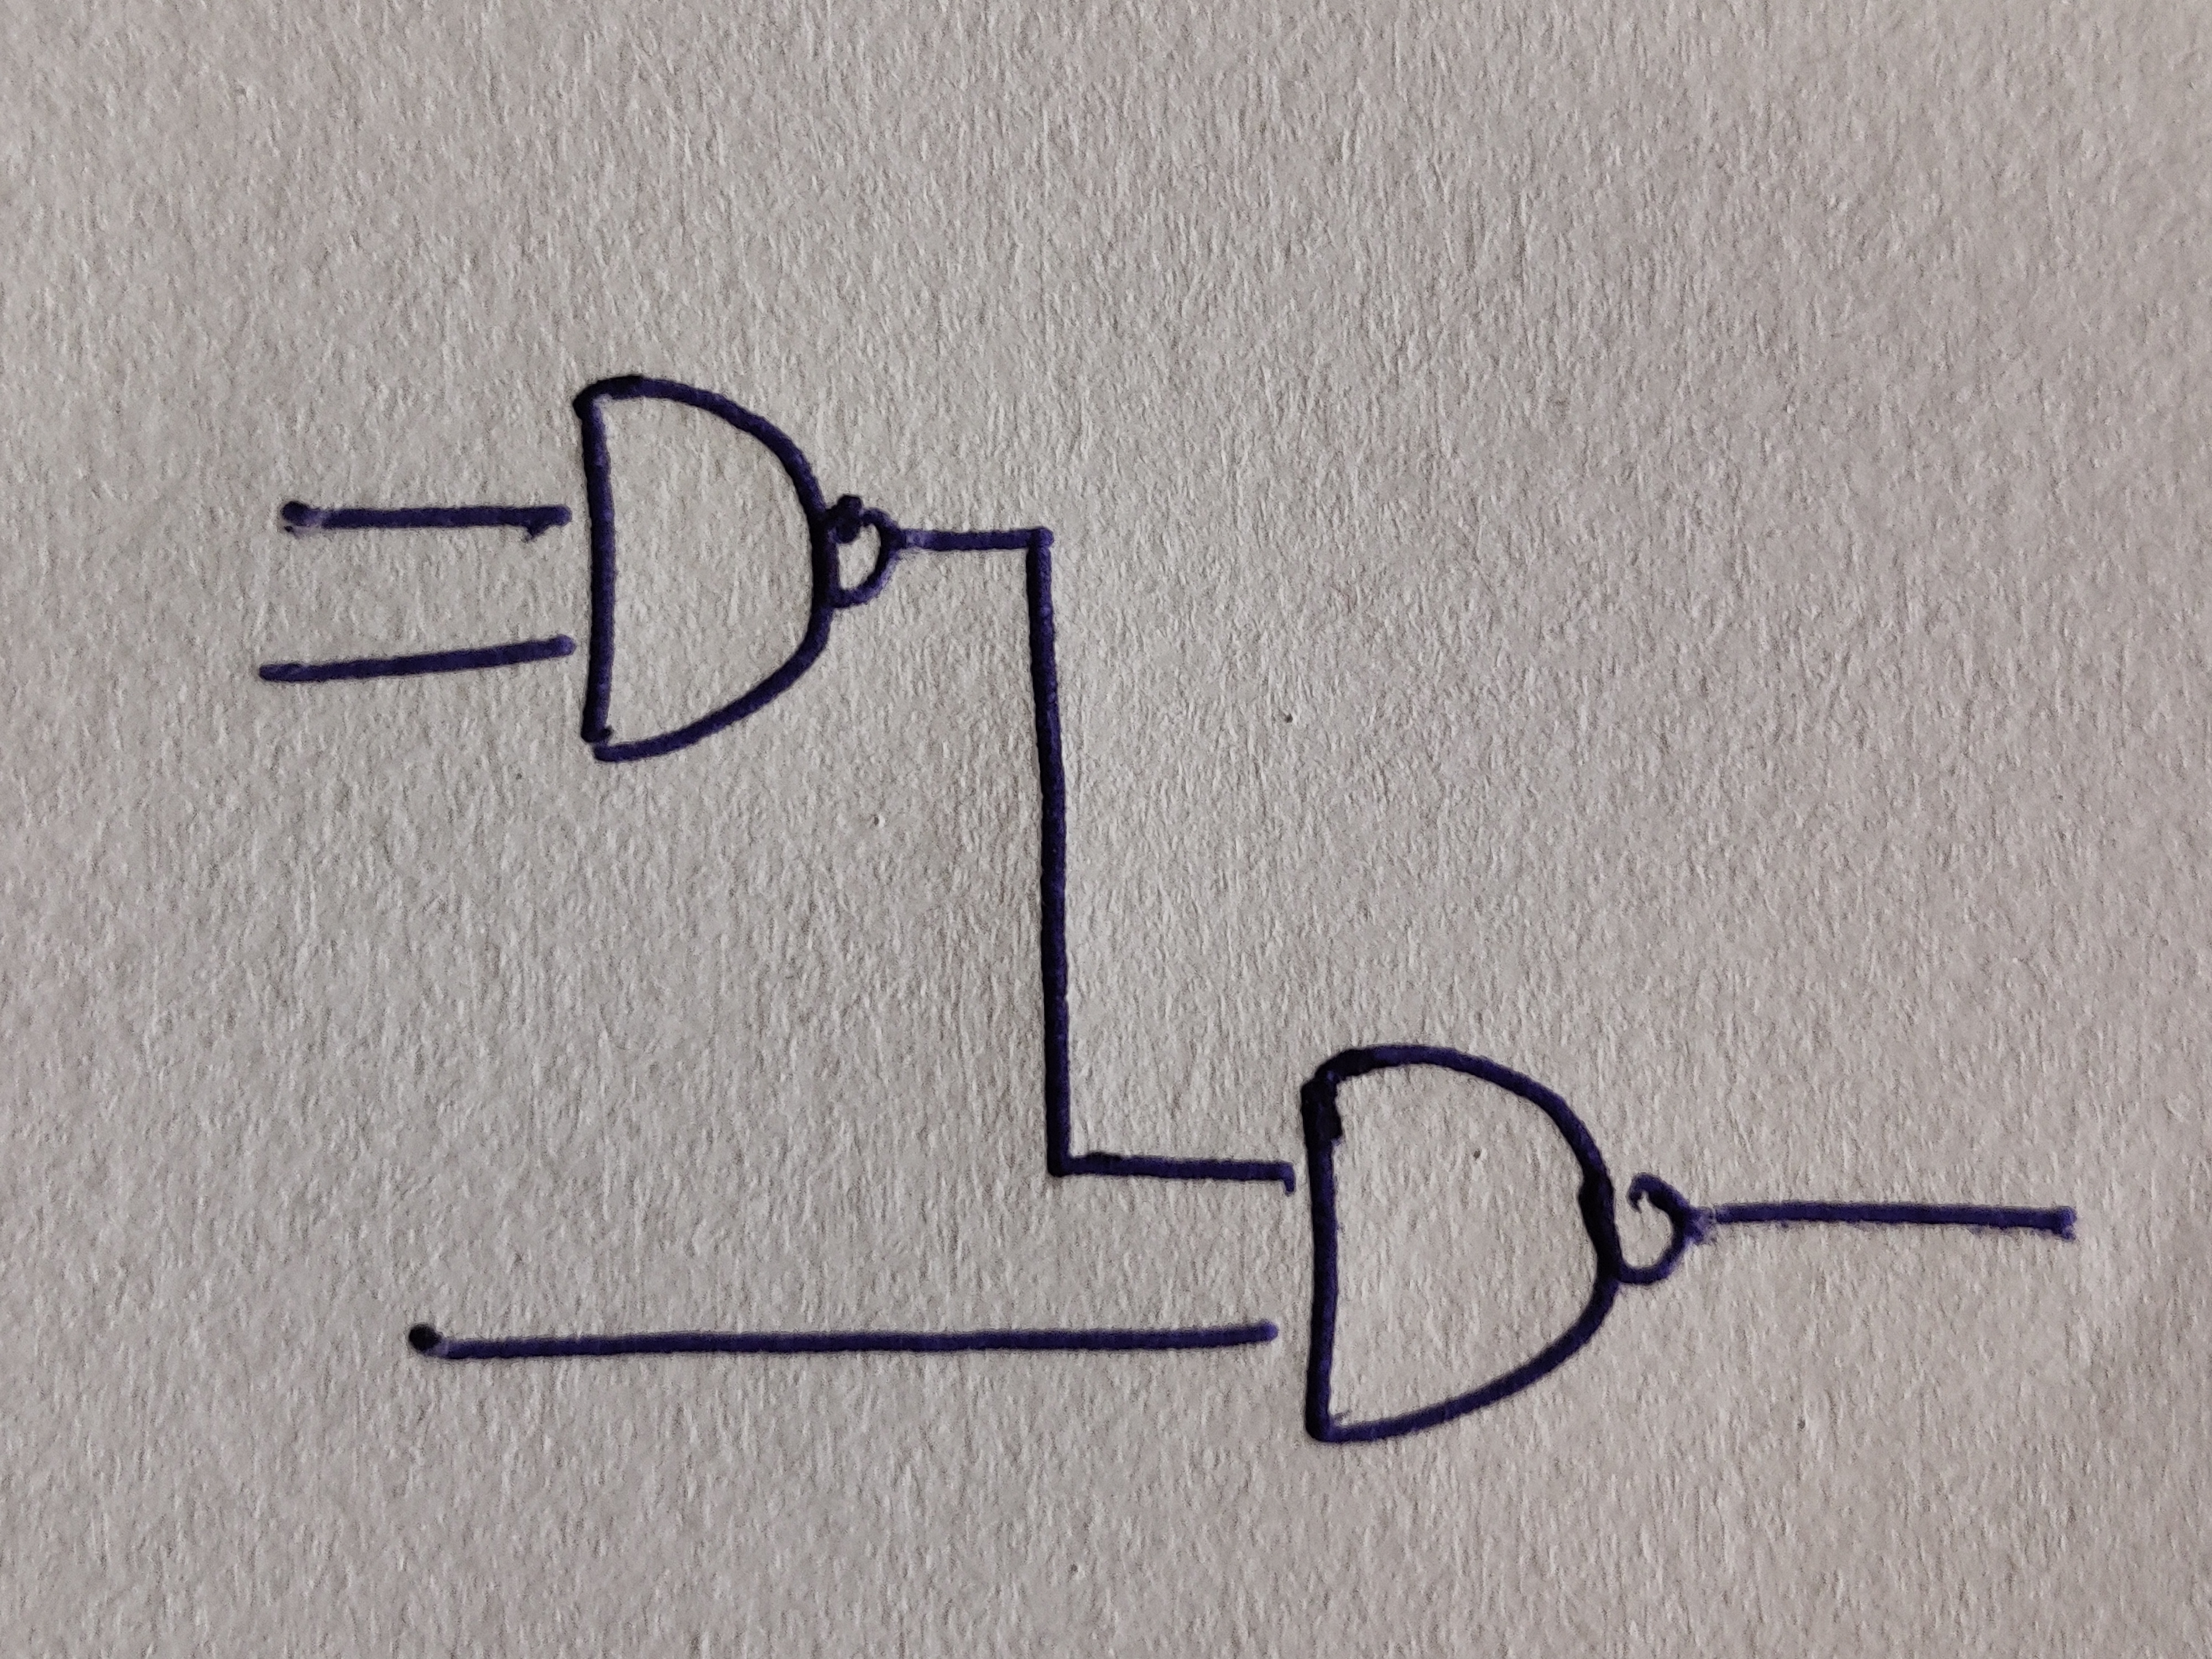and: (1301, 1044, 1620, 1445), (571, 373, 838, 765)
not: (1616, 1168, 1693, 1286), (826, 495, 899, 610)
